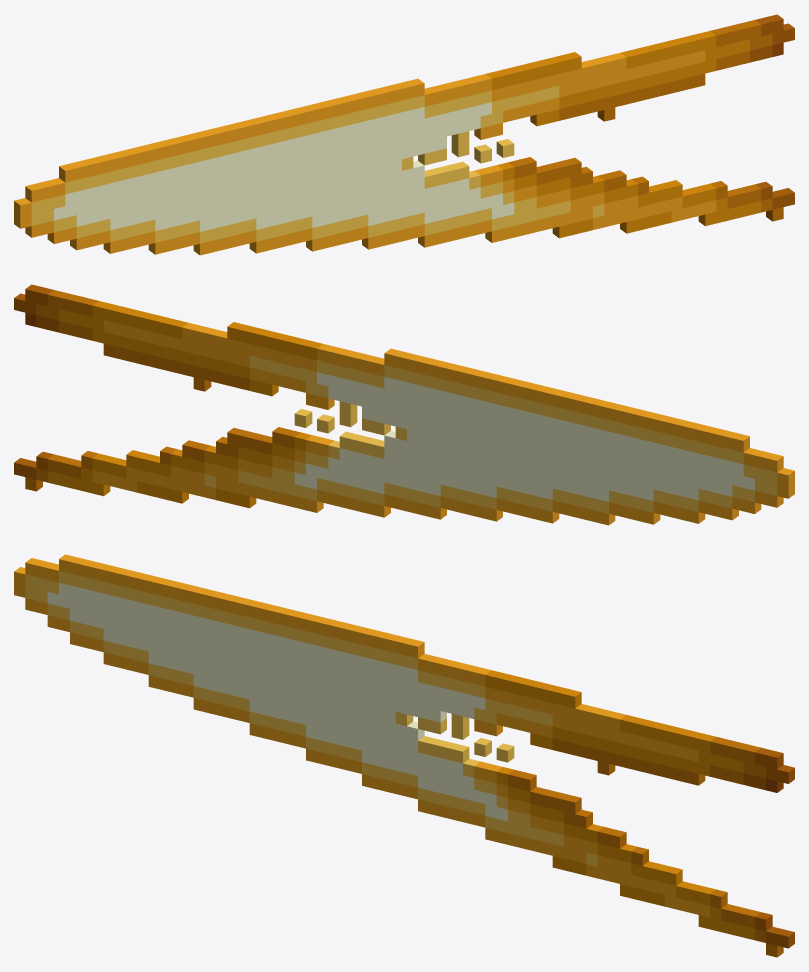
Rendered from Fight_020_2_05_fx.obj.
3 views of the same model, one above another, from view 1: azimuth 30°, elevation 25°; view 2: azimuth 150°, elevation 25°; view 3: azimuth 330°, elevation 25° (orthographic).
Size of the model in its own units: 6.9 by 1.9 by 0.1.
Materials: 1 (1 with a texture image).
